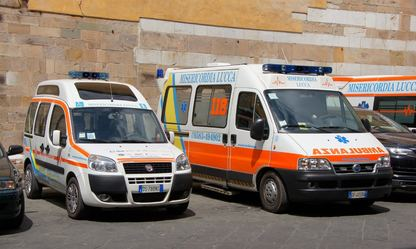ambulance: (157, 48, 394, 214), (24, 69, 193, 219), (331, 75, 416, 135)
